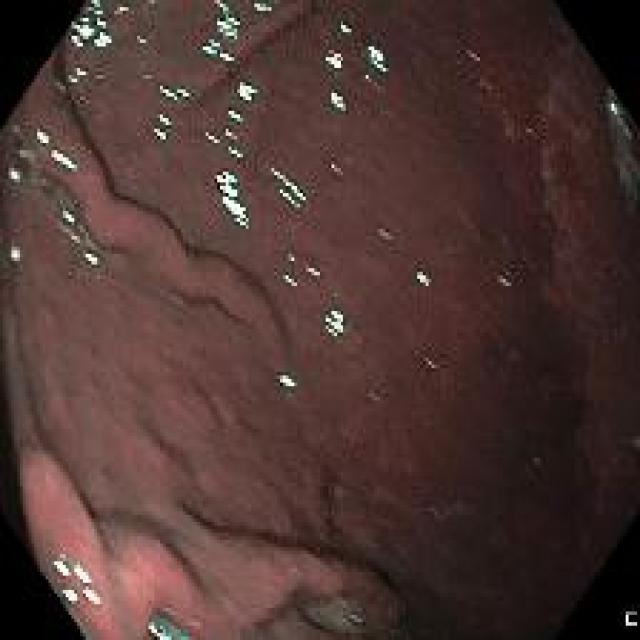blur: (19, 25, 621, 615)
bubbles: (168, 286, 189, 312), (343, 612, 363, 628), (531, 454, 543, 470)
color misalignment: (145, 619, 177, 632)
contrast: (383, 316, 605, 626)
specularity: (213, 165, 254, 237), (66, 3, 109, 52), (272, 170, 309, 209), (606, 91, 629, 138), (213, 3, 244, 36), (363, 42, 390, 79), (47, 145, 76, 175), (321, 308, 345, 341), (203, 36, 236, 59), (144, 616, 176, 638), (63, 65, 88, 92), (158, 82, 190, 103), (51, 559, 74, 588), (74, 245, 99, 271), (319, 46, 345, 71), (61, 580, 84, 607), (363, 384, 386, 411), (59, 204, 81, 228), (148, 123, 172, 144), (220, 144, 247, 162), (202, 126, 223, 149), (280, 264, 299, 289), (221, 122, 242, 144), (279, 372, 299, 395), (235, 81, 255, 104), (424, 356, 444, 376), (331, 90, 347, 115), (302, 264, 323, 283), (84, 585, 102, 607), (497, 274, 518, 292), (8, 163, 25, 185), (74, 562, 90, 585), (335, 17, 352, 37), (32, 126, 50, 144), (415, 271, 436, 286), (7, 248, 23, 267), (115, 3, 131, 21), (156, 109, 172, 127), (251, 3, 276, 14), (357, 68, 372, 82), (286, 246, 297, 264), (136, 35, 148, 50), (378, 226, 389, 240)
